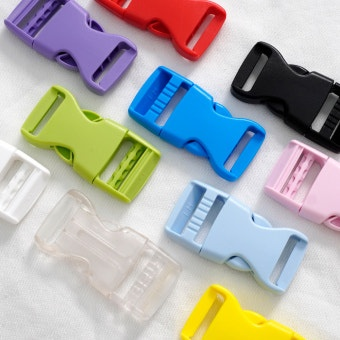plastic: (32, 187, 184, 327)
